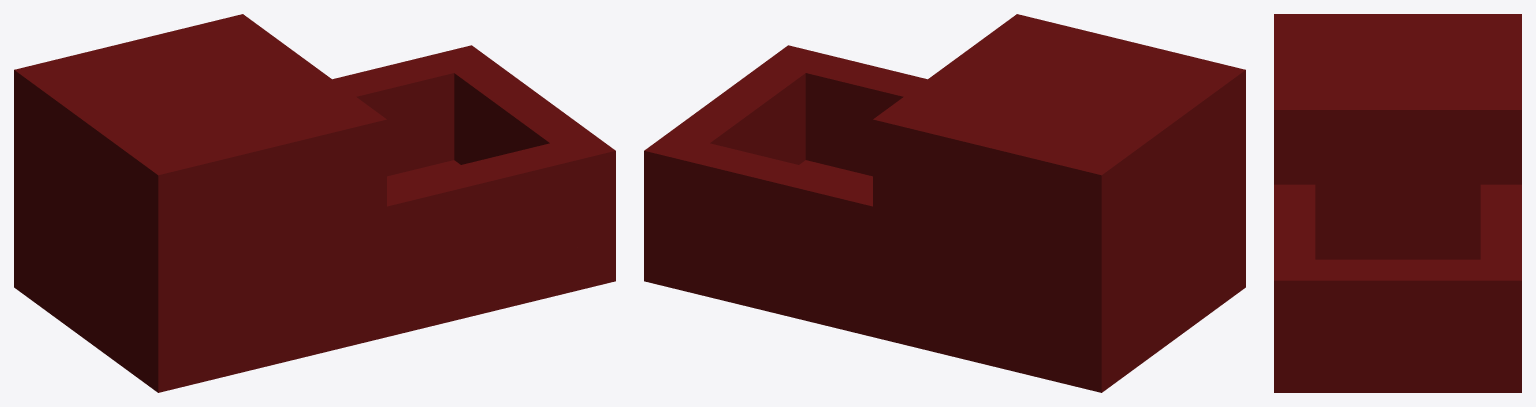
The model's file is battery_car.dae.
3 views of the same model, side by side, from view 1: azimuth 30°, elevation 25°; view 2: azimuth 150°, elevation 25°; view 3: azimuth 270°, elevation 25° (orthographic). The views are drawn at different scales.
Visible parts, largest first — view 1: Cube_055; view 2: Cube_055; view 3: Cube_055.
Part boxes in pixels (x1,y1,x2,y2): Cube_055: (14,14,615,392); Cube_055: (644,14,1245,392); Cube_055: (1274,14,1521,392).
Size of the model in its own units: 0.22 by 0.12 by 0.1.
